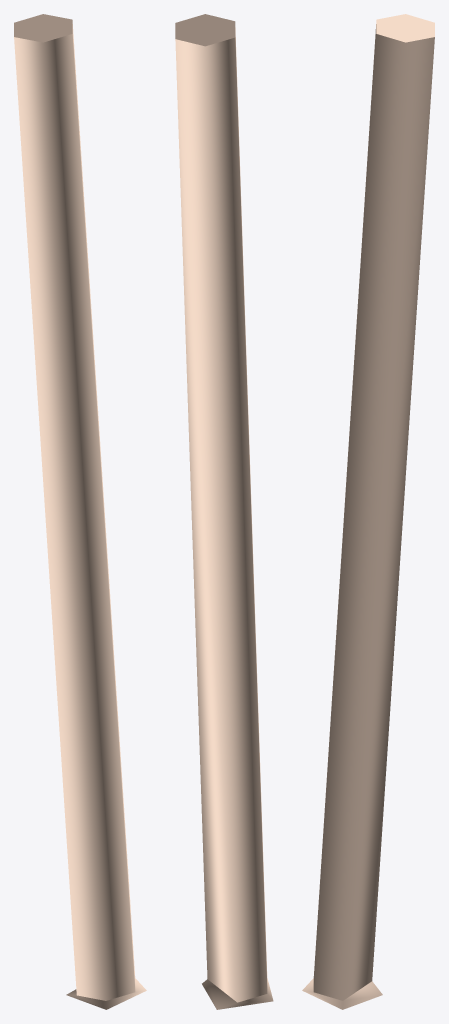
The model's file is Goupille roue_Marteau Quarts - H.obj.
3 views of the same model, side by side, from view 1: azimuth 90°, elevation 25°; view 2: azimuth 150°, elevation 25°; view 3: azimuth 270°, elevation 25° (orthographic). The views are drawn at different scales.
Parts seen in each view (by area): view 1: Face_1, Face_2, Face_3; view 2: Face_1, Face_2, Face_3; view 3: Face_1, Face_2, Face_3.
Boxes of the visible parts, x1,y1,x2,y2 form: Face_1: (14, 24, 135, 1000); Face_2: (14, 14, 72, 42); Face_3: (66, 978, 146, 1009); Face_1: (175, 27, 267, 1002); Face_2: (175, 14, 235, 46); Face_3: (202, 978, 273, 1009); Face_1: (313, 24, 434, 1000); Face_2: (376, 14, 434, 42); Face_3: (302, 978, 382, 1009).
Bounding box in the file's own units: 0.0024 × 0.0316 × 0.00393.
